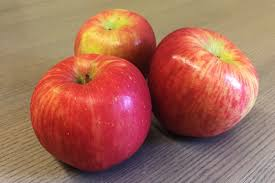apple: (37, 57, 146, 169), (153, 34, 261, 136), (77, 11, 159, 81)
